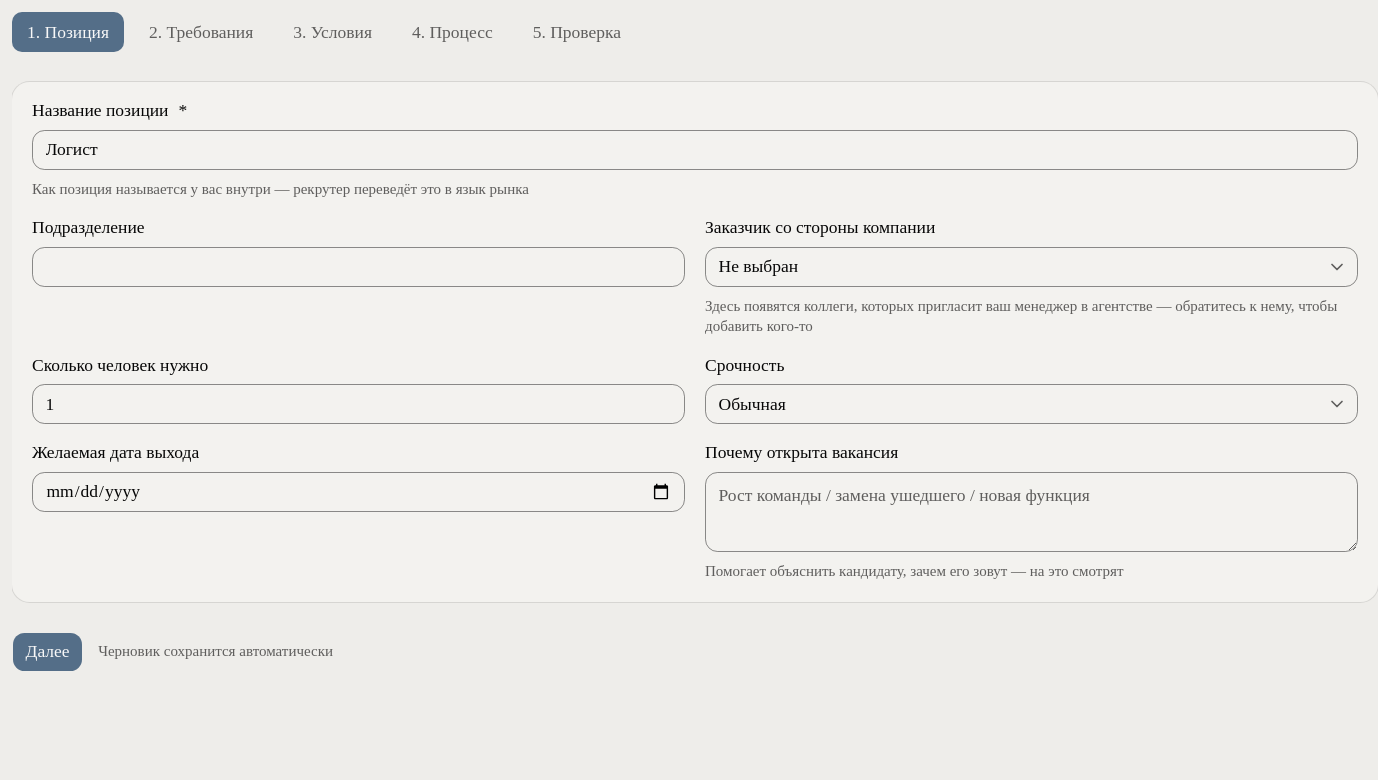
Test: автосохранение заявки › несколько сбоев подряд не залипают: каждый тик пробует снова
The width and height of the screenshot is (1378, 780).
Replace the text in the number field labelled "Сколько человек нужно" with "3" at [358, 404], box [32, 384, 685, 424]
Wait 30000 ms
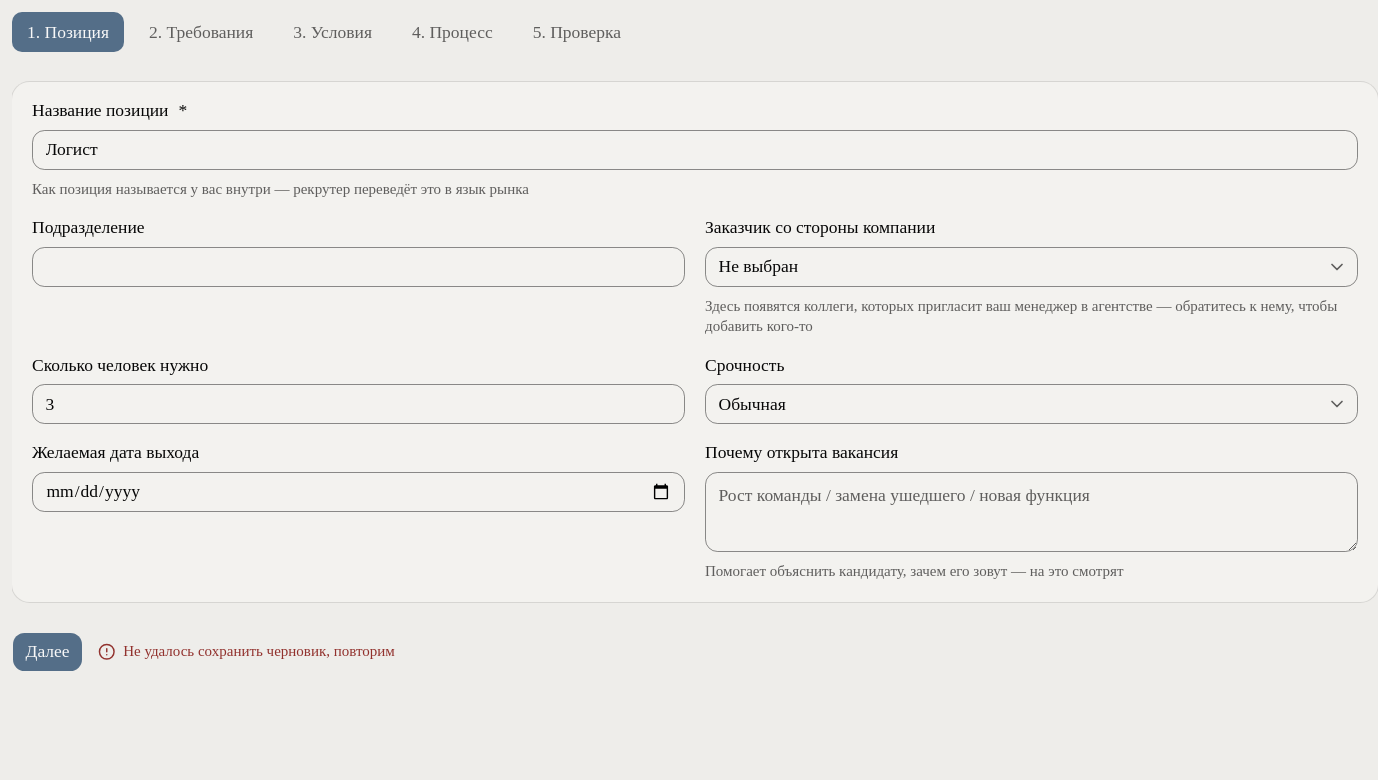
Expected: the message shows "Не удалось сохранить черновик", [123, 643, 395, 659]
